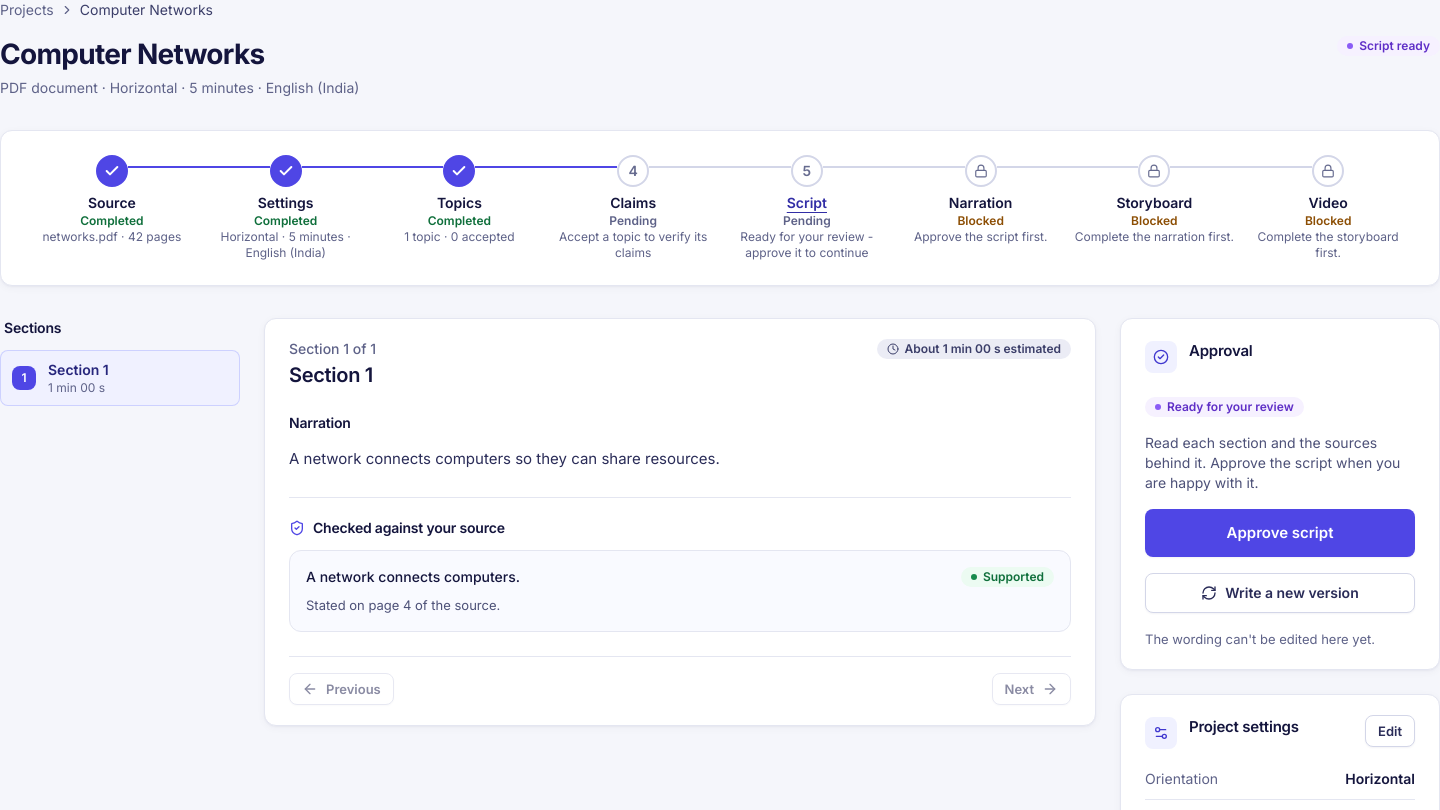
Test: Script step › lets the person approve a draft, then says what is next without offering anything that does not exist
Expected: the navigation bar named "Script sections" is shown, [0, 318, 240, 406]
Expected: the text "A network connects computers so they can share resources." is shown, [289, 449, 720, 468]
Click the button "Approve script" at (1280, 533), box [1145, 509, 1415, 557]
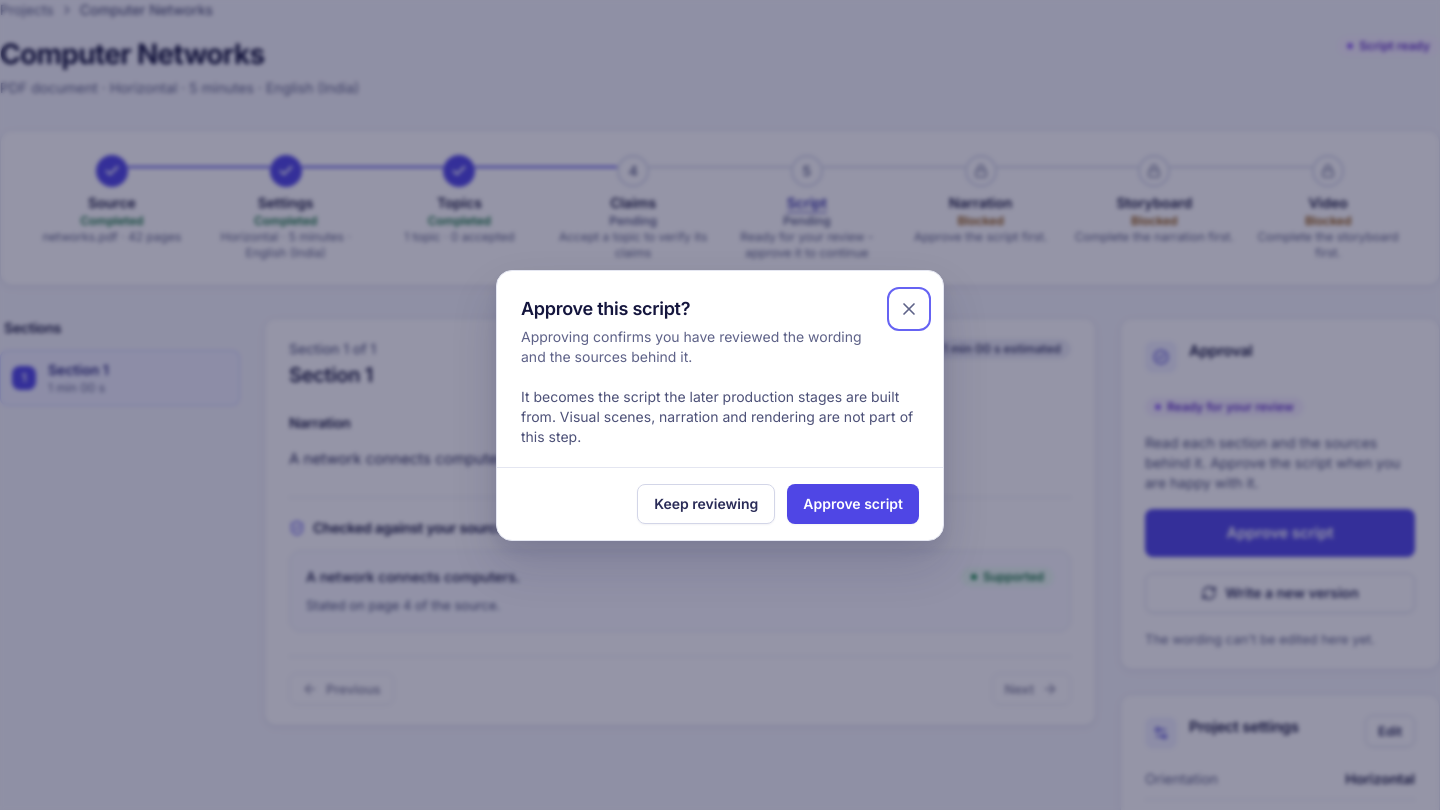
Click the button "Approve script" at (853, 504), box [787, 484, 919, 524]
(page scrolled)
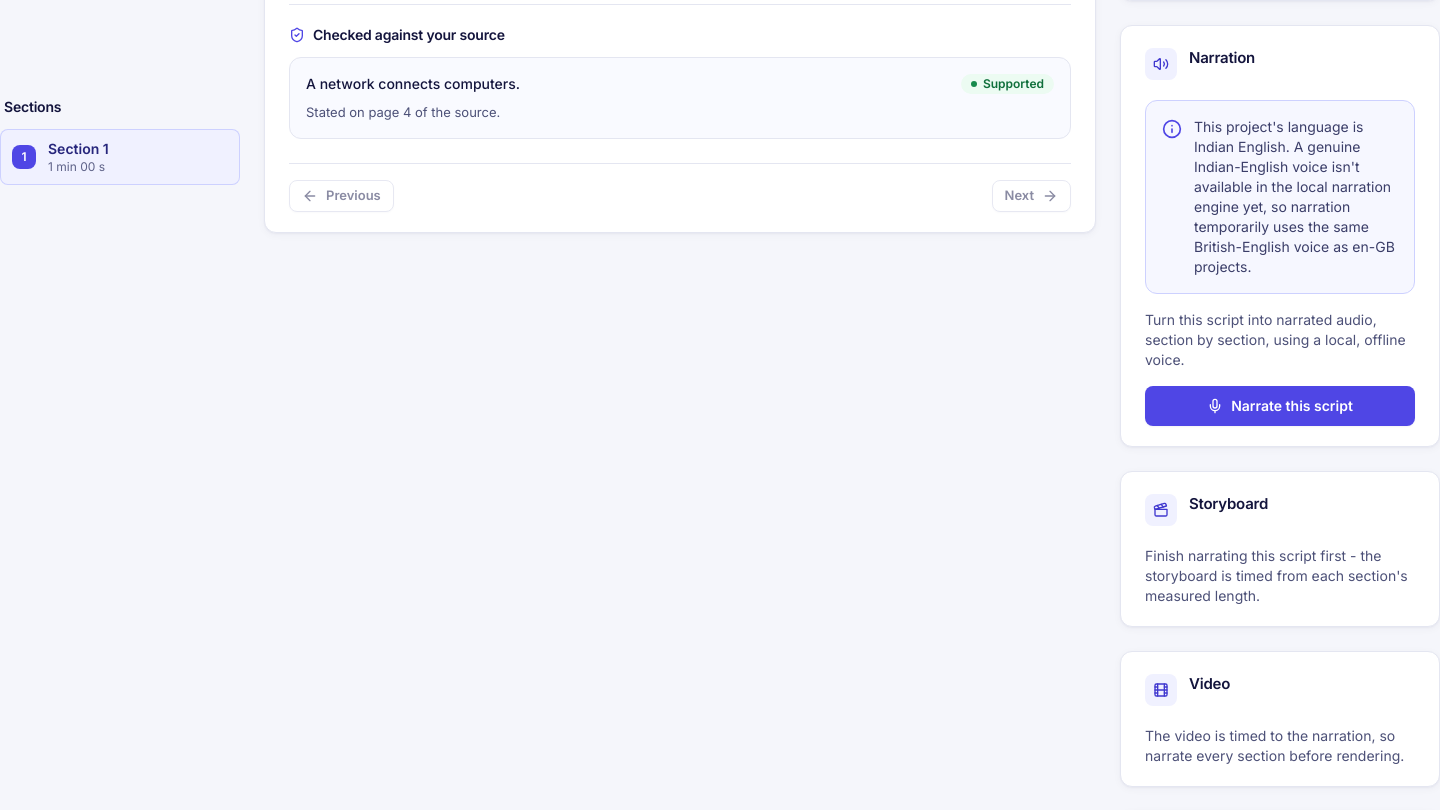
Expected: the button "Narrate this script" is shown, [1145, 386, 1415, 426]
Expected: the button "Approve script" is gone
